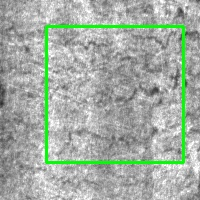crazing: (46, 26, 183, 162)
